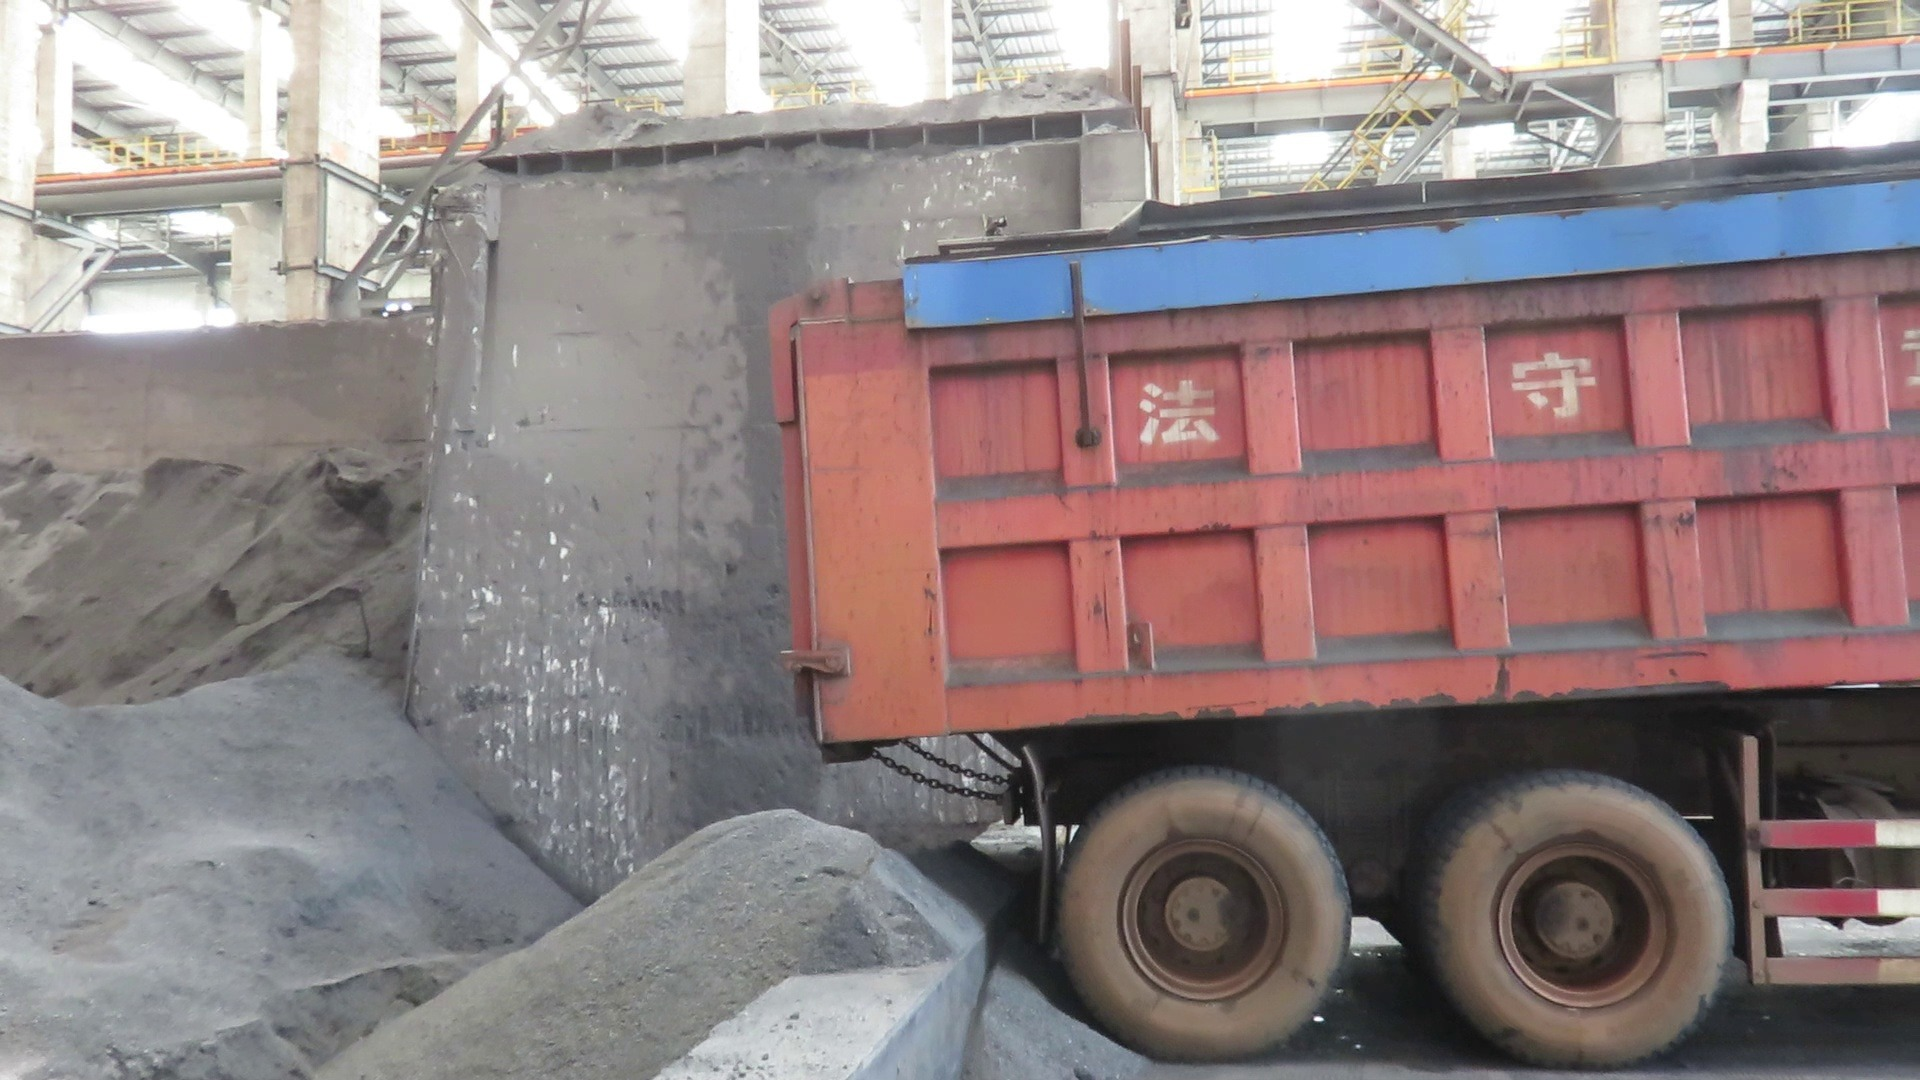truck: (745, 131, 1920, 1073)
